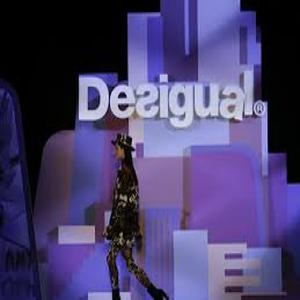desigual: (77, 73, 263, 122)
